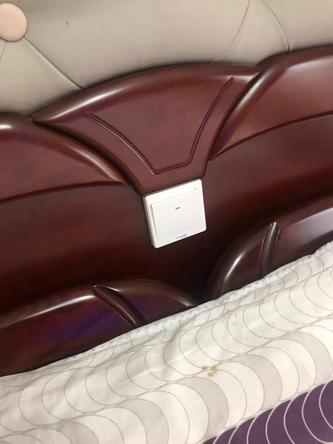switch: (140, 198, 208, 228)
